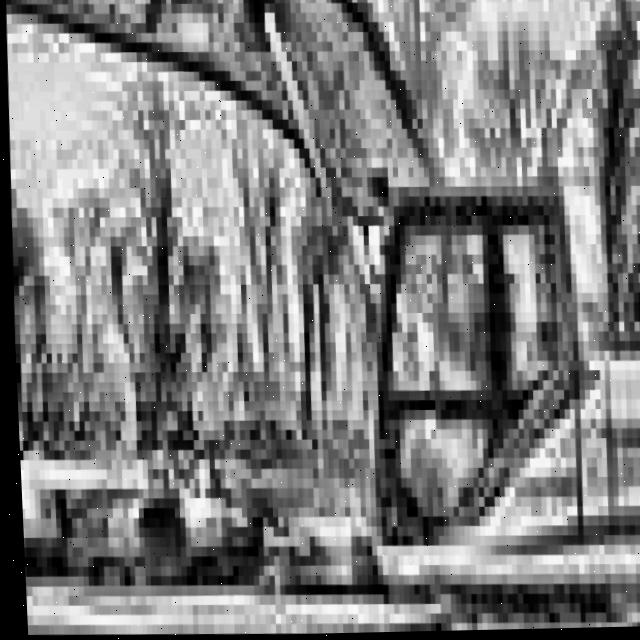excavator: (175, 160, 640, 637)
